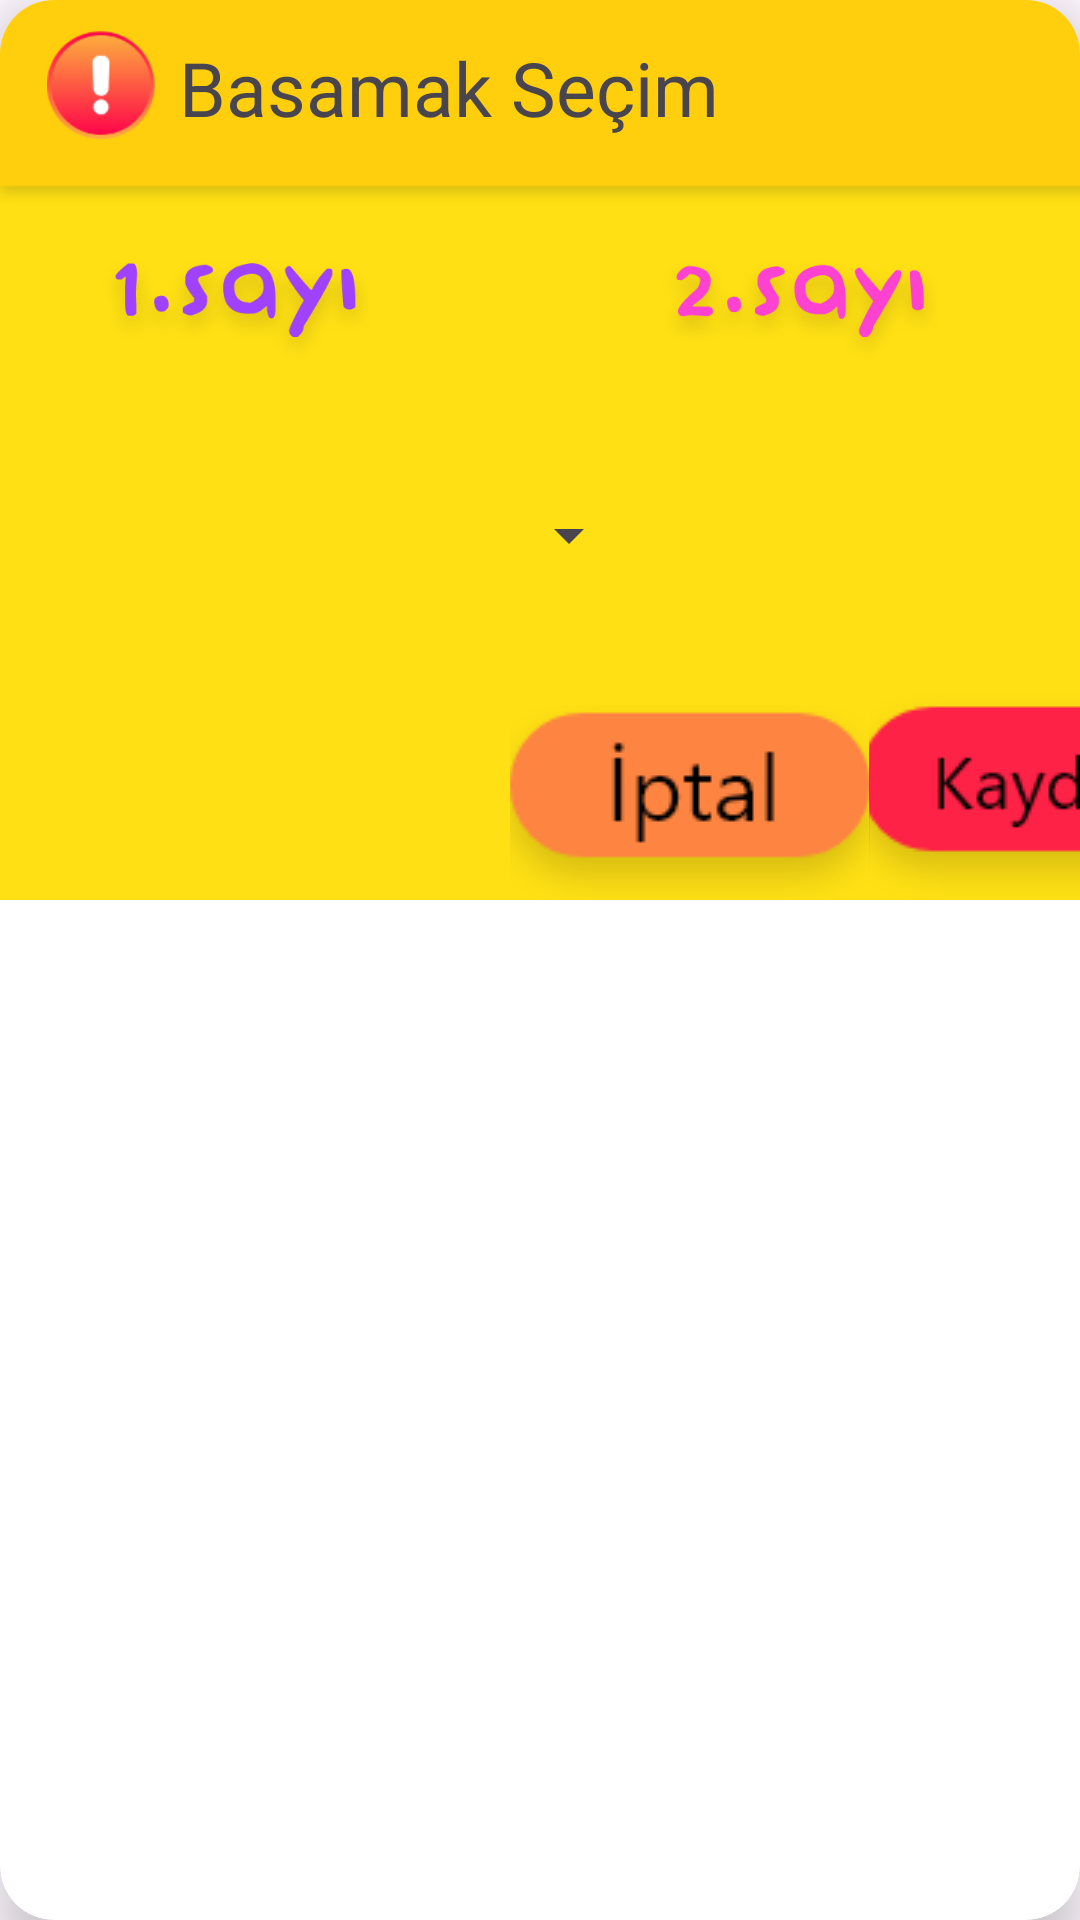

Screen size 1080×1920. Icon name, then its center in pixels as point (x, y):
unlemicon: point (101, 85)
